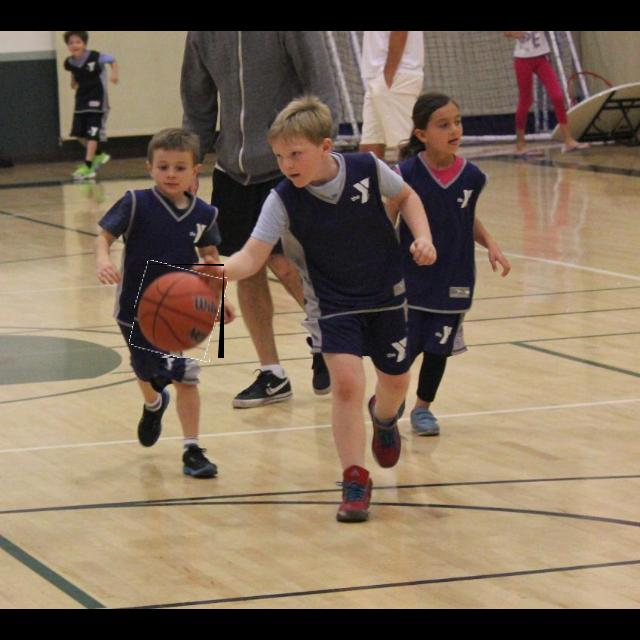Football: (134, 264, 224, 358)
